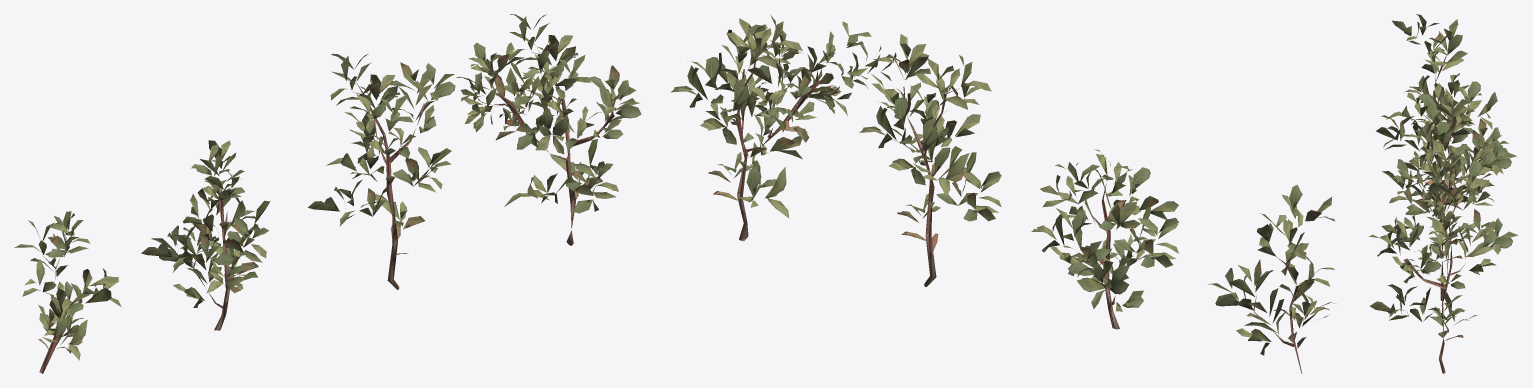
File: shrub_04_lod.lo.glb
3 renders of one model, left to right at view 1: azimuth 30°, elevation 25°; view 2: azimuth 150°, elevation 25°; view 3: azimuth 270°, elevation 25°, orthographic. The views are drawn at different scales.
Parts seen in each view (by area): view 1: shrub_04; view 2: shrub_04; view 3: shrub_04.
Boxes of the visible parts, x1,y1,x2,y2 form: shrub_04: [14, 14, 641, 373]; shrub_04: [671, 14, 1336, 373]; shrub_04: [1368, 14, 1518, 373].
Size of the model in its own units: 0.5837 by 0.2192 by 0.1461.
Materials: 1 (1 with a texture image).
